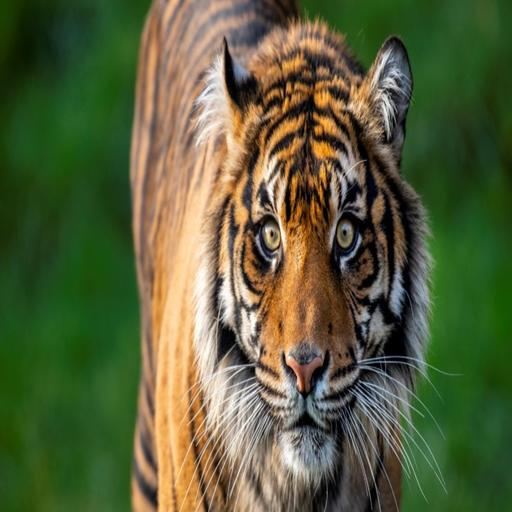Tiger: (93, 0, 458, 512)
